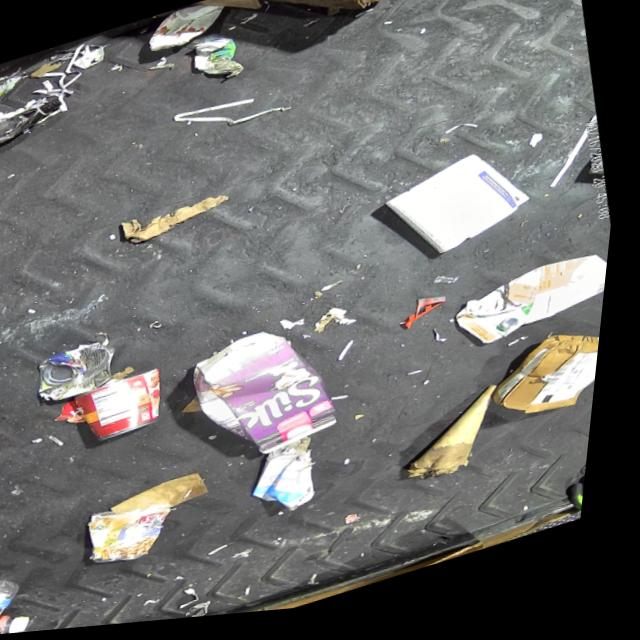can: (77, 368, 182, 451), (92, 494, 193, 576), (36, 335, 133, 411), (137, 0, 231, 60)
non_white_jug: (183, 318, 357, 480), (456, 256, 615, 363)
